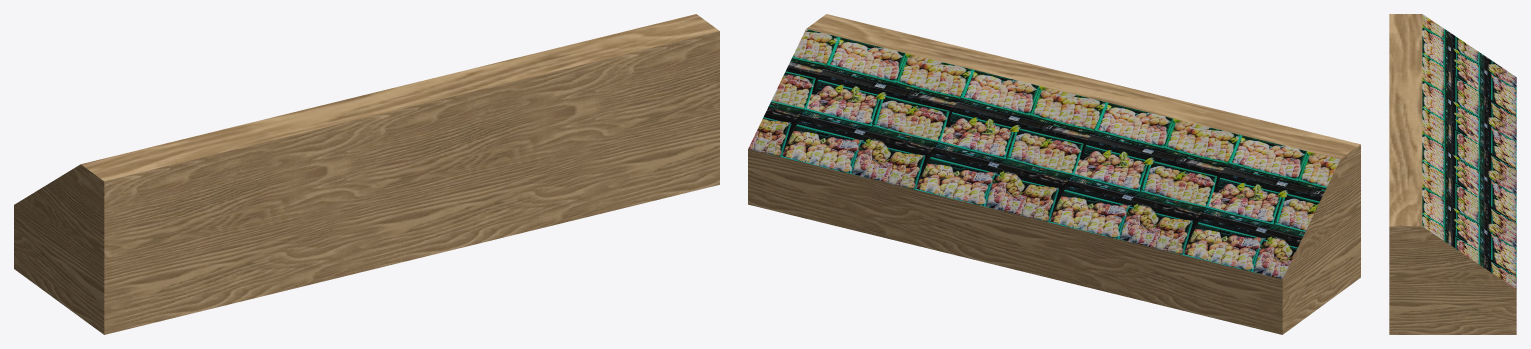
The model's file is apple_stand.glb.
3 views of the same model, side by side, from view 1: azimuth 30°, elevation 25°; view 2: azimuth 150°, elevation 25°; view 3: azimuth 270°, elevation 25° (orthographic). The views are drawn at different scales.
Parts seen in each view (by area): view 1: Librero.022; view 2: Librero.022; view 3: Librero.022.
Part boxes in pixels (box(x1,y1,x2,y2)): Librero.022: box(14, 14, 719, 334); Librero.022: box(748, 14, 1360, 334); Librero.022: box(1389, 14, 1516, 334).
Size of the model in its own units: 7.23 by 1.72 by 1.84.
Materials: 2 (2 with a texture image).
